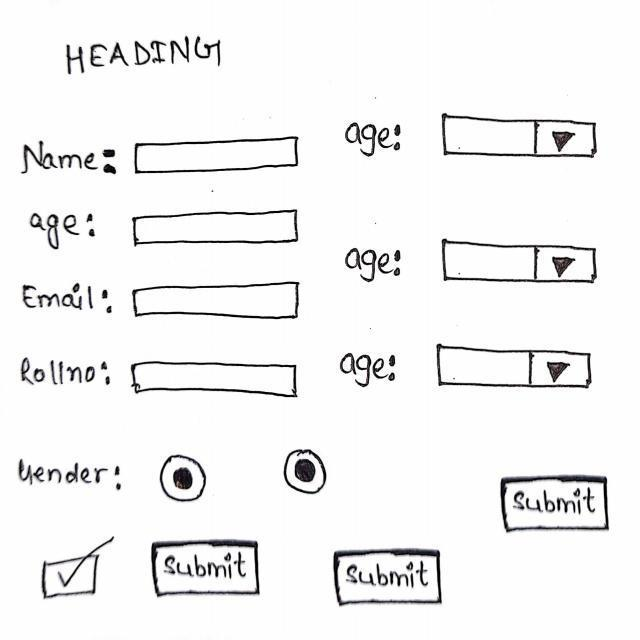radio: (152, 440, 216, 508), (285, 440, 341, 505)
textbox: (126, 350, 301, 410), (131, 271, 302, 329), (130, 125, 306, 179), (133, 203, 305, 253)
